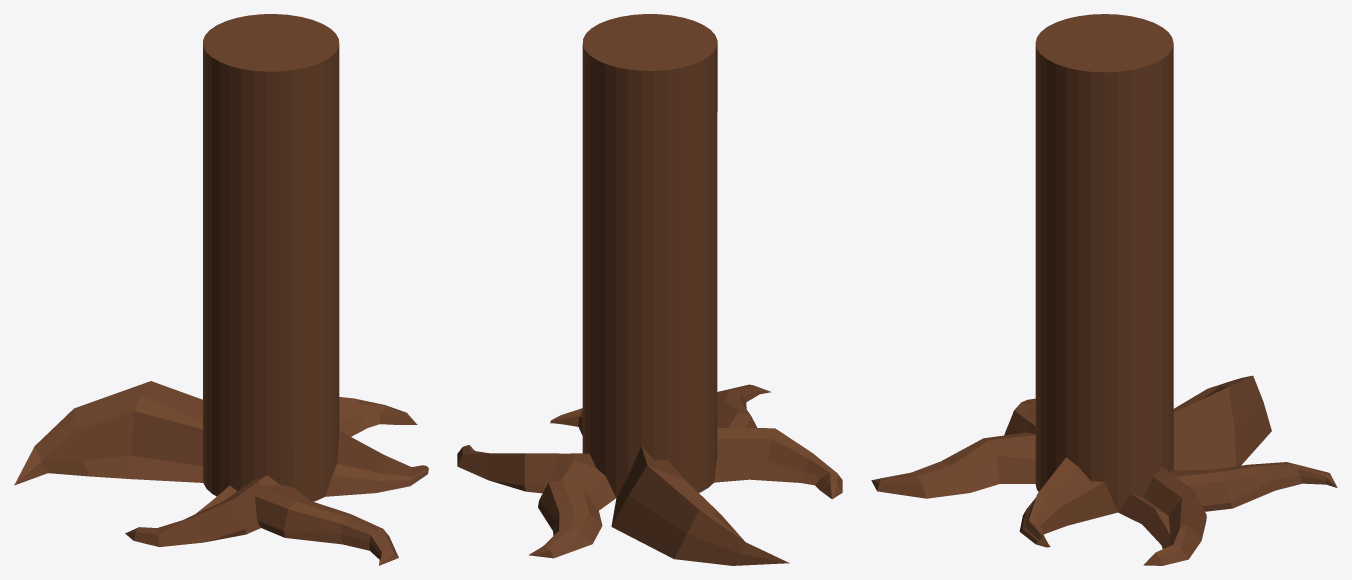
Rendered from Jungle Tree.fbx.
The picture shows the model from 3 angles, left to right: view 1: azimuth 30°, elevation 25°; view 2: azimuth 150°, elevation 25°; view 3: azimuth 270°, elevation 25°; orthographic projection. The views are drawn at different scales.
Parts seen in each view (by area): view 1: Cylinder; view 2: Cylinder; view 3: Cylinder.
Boxes of the visible parts, box(x1,y1,x2,y2) form: Cylinder: box(14, 14, 428, 565); Cylinder: box(457, 14, 842, 565); Cylinder: box(871, 14, 1337, 565).
Size of the model in its own units: 618 by 705 by 675.
